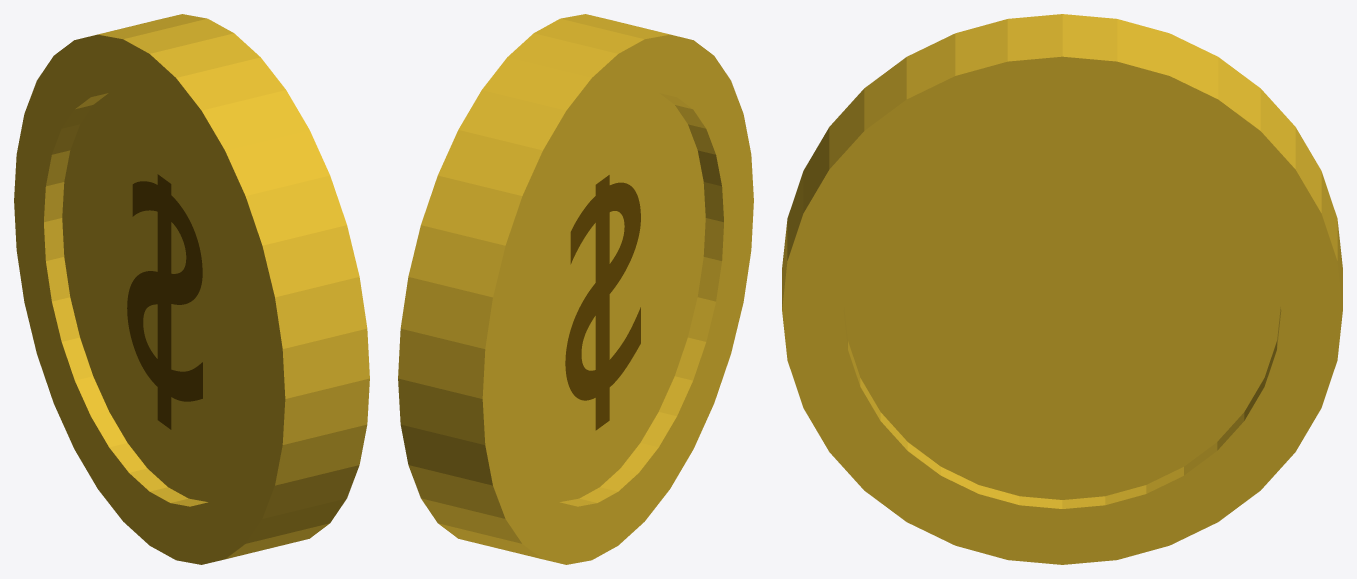
File: coin.fbx
3 renders of one model, left to right at view 1: azimuth 30°, elevation 25°; view 2: azimuth 150°, elevation 25°; view 3: azimuth 270°, elevation 25°, orthographic. The views are drawn at different scales.
Parts seen in each view (by area): view 1: Cylinder.001, $.001; view 2: Cylinder.001, $.001; view 3: Cylinder.001.
Boxes of the visible parts, x1=… form: Cylinder.001: x1=14, y1=14, x2=369, y2=564; $.001: x1=127, y1=174, x2=202, y2=429; Cylinder.001: x1=398, y1=14, x2=753, y2=564; $.001: x1=565, y1=175, x2=640, y2=430; Cylinder.001: x1=782, y1=14, x2=1342, y2=564.
Bounding box in the file's own units: 12 × 66.61 × 66.61.
